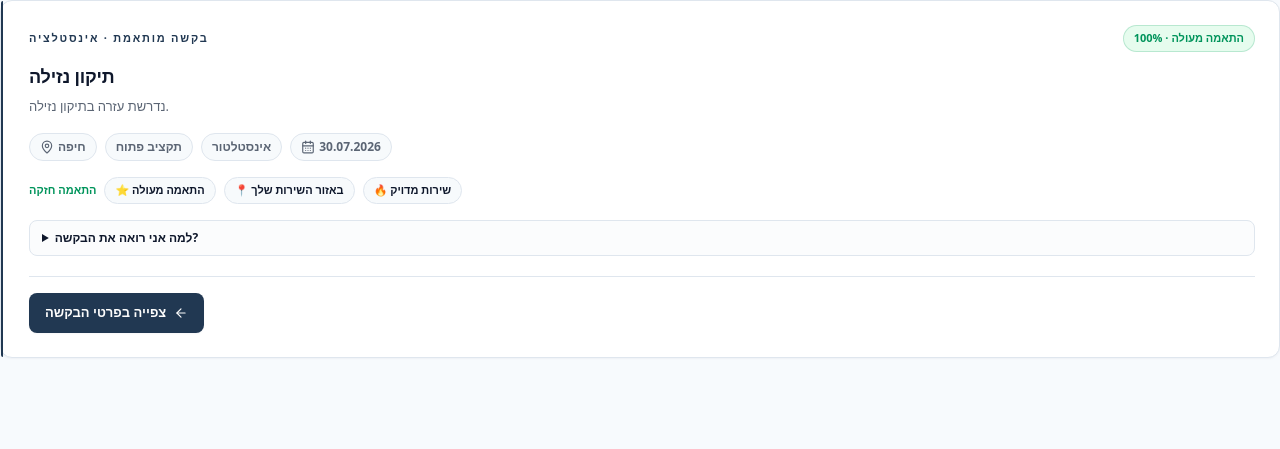
Test: SupplierMatchedRequestCard Smart Match details › shows score, strong-fit level, badges, and expandable explanations
Expected: the text "100% · התאמה מעולה" is shown, [1123,25,1255,52]
Expected: the text "התאמה חזקה" is shown, [29,182,96,199]
Click the heading "למה אני רואה את הבקשה?". click: (126, 237)
box: [55,229,198,246]
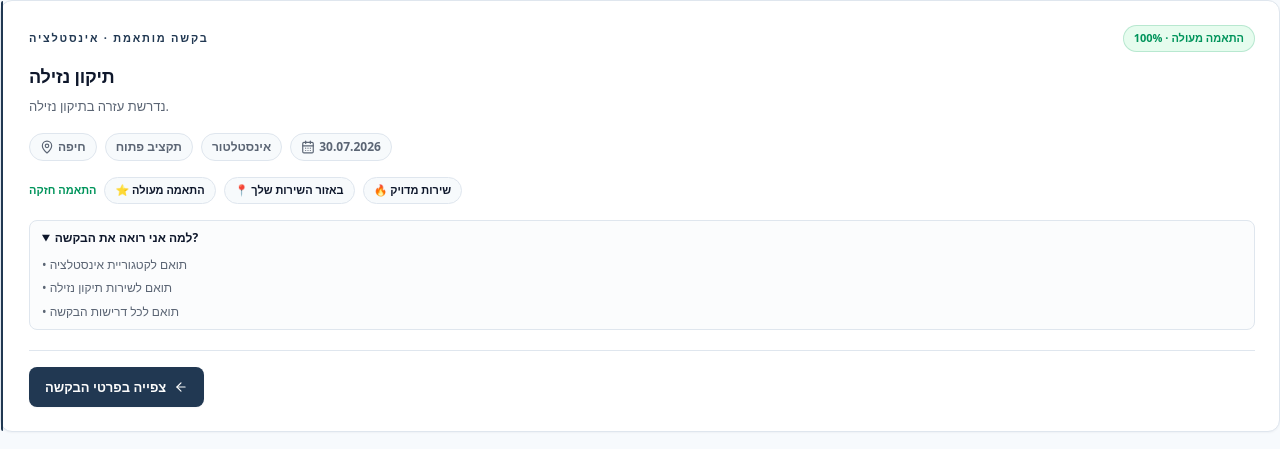
Now the list item "• תואם לקטגוריית אינסטלציה" is shown, box [42,256,187,273]
Now the list item "• תואם לכל דרישות הבקשה" is shown, box [42,303,179,320]
